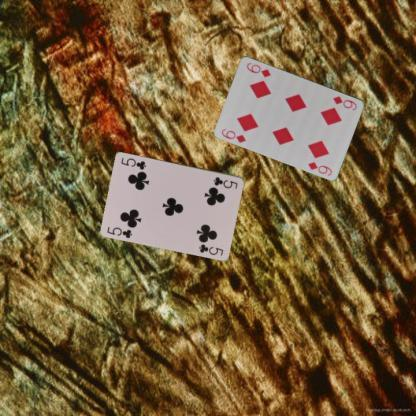5c: (211, 174, 238, 192), (104, 224, 134, 239)
6d: (218, 126, 248, 144), (330, 93, 358, 112)
